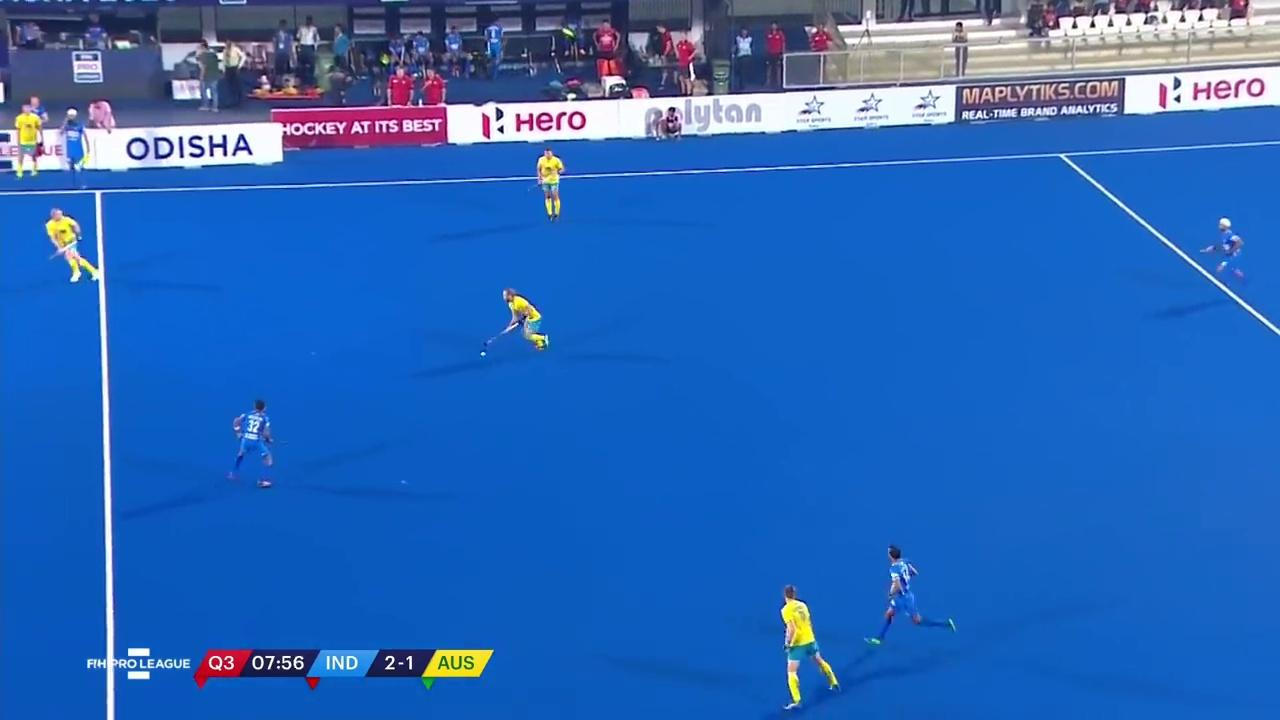ball: (476, 344, 494, 360)
